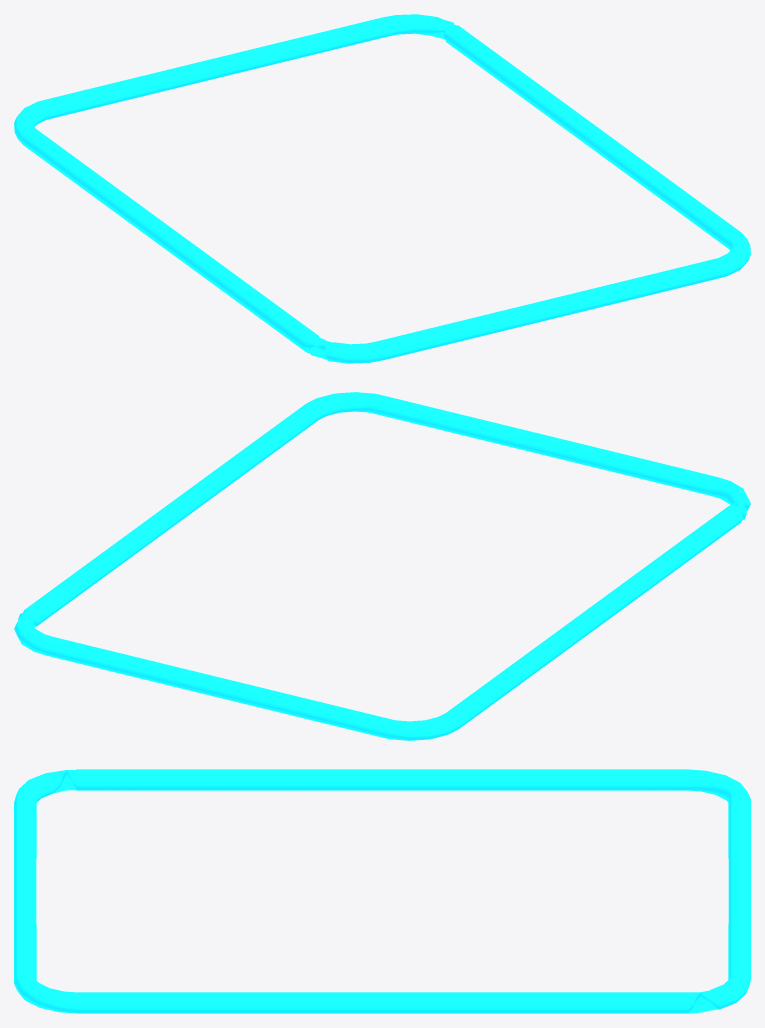
The model's file is bonus_frame_cyan.glb.
3 views of the same model, one above another, from view 1: azimuth 30°, elevation 25°; view 2: azimuth 150°, elevation 25°; view 3: azimuth 270°, elevation 25° (orthographic). The views are drawn at different scales.
Parts seen in each view (by area): view 1: Frame; view 2: Frame; view 3: Frame.
Boxes of the visible parts, <box> form: Frame: <box>14,14,750,363</box>; Frame: <box>14,392,750,740</box>; Frame: <box>14,769,750,1013</box>.
Bounding box in the file's own units: 0.1272 × 0.0052 × 0.1703.
